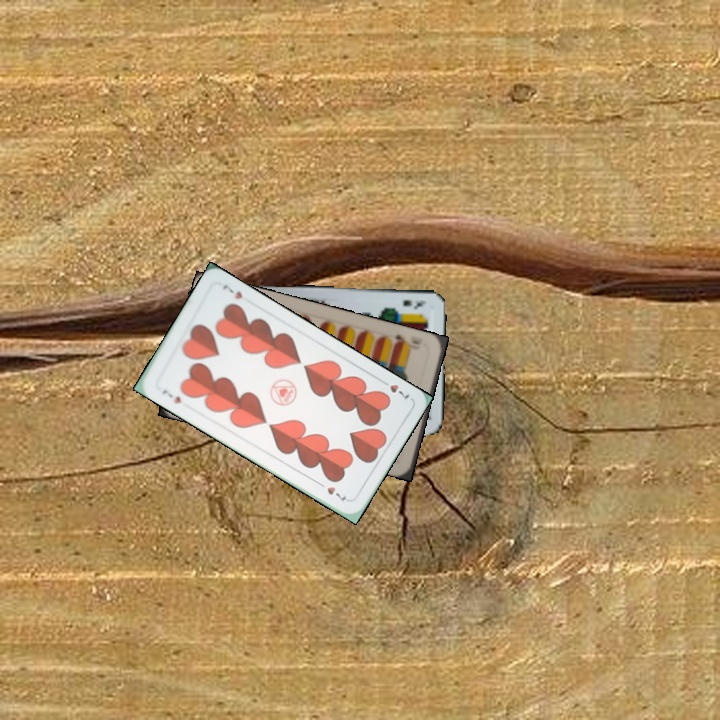E10: (390, 330, 423, 352)
EK: (399, 295, 429, 311)
H7: (376, 375, 412, 401), (158, 385, 184, 406)
